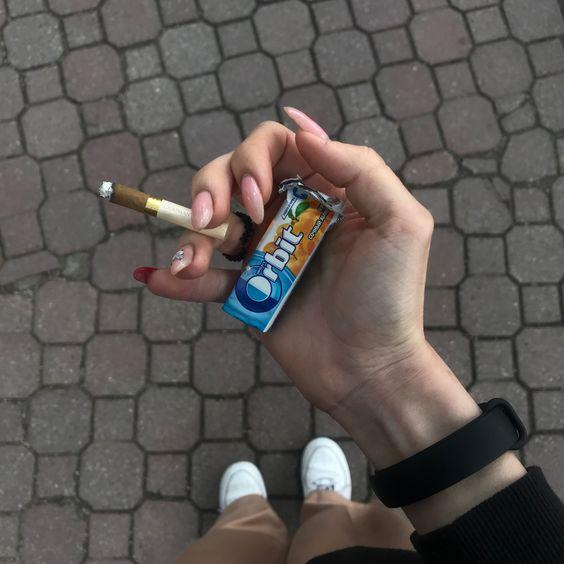cigarette: (97, 179, 232, 241)
